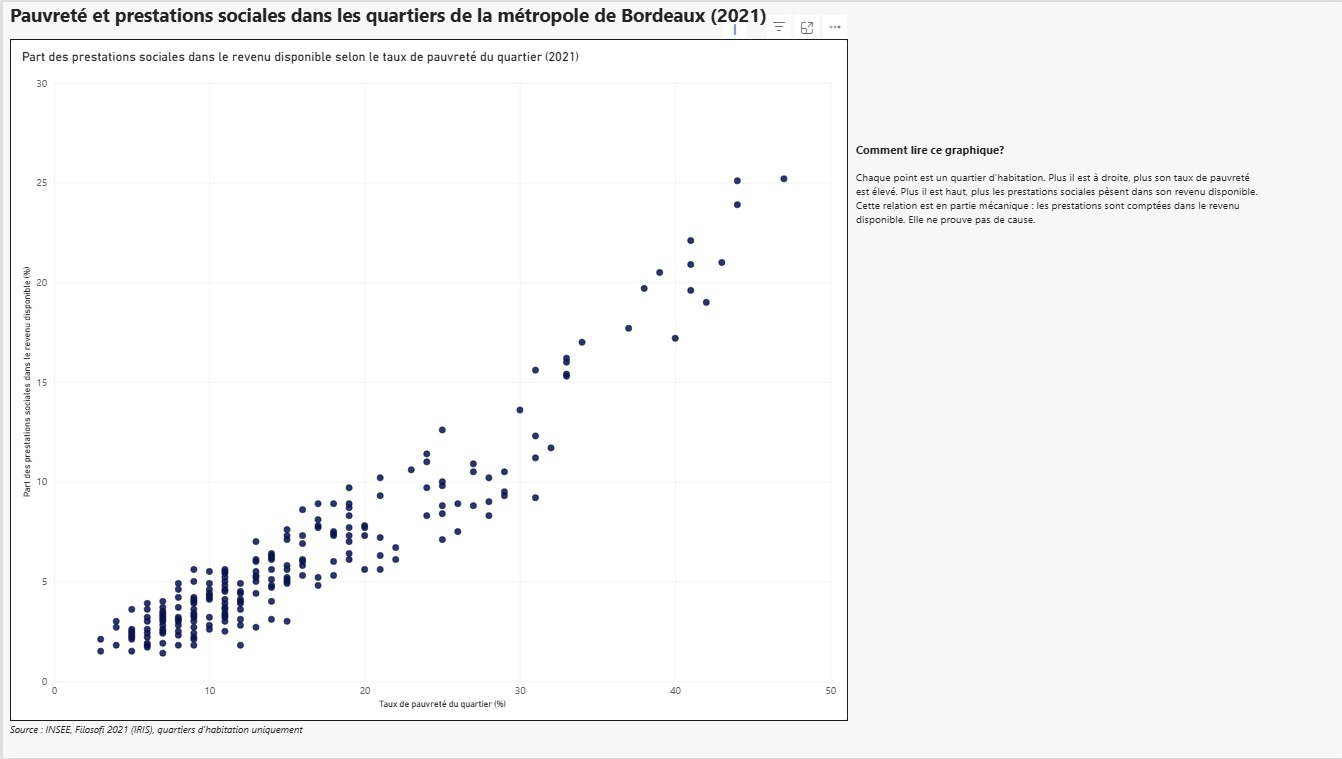

The dashboard page shown, as its layout file describes it:
{"tool":"powerbi","page":{"name":"D'où viennent les revenus","canvas":[1920,1080],"ordinal":3},"visuals":[{"type":"scatterChart","title":"Part des prestations sociales dans le revenu disponible selon le taux de pauvreté du quartier (2021)","fields":{"X":["IRIS_2021.Tx_pauvrete"],"Y":["IRIS_2021.Part_prestations_sociales"]},"box":[10,52.9,1197.1,974.3],"z":0},{"type":"textbox","box":[10,1028.3,1196.7,31.7],"z":1000},{"type":"textbox","box":[10,0,1197.1,52.9],"z":2000},{"type":"textbox","box":[1218,200,584,160],"z":3000}]}

Visuals, with their boxes on the page's 1920x1080 design canvas (x1, y1, x2, y2). These are canvas units, not pixel positions in the 1342x759 screenshot, which may show the page scaled, cropped or inside an application window:
"Part des prestations sociales dans le revenu disponible selon le taux de pauvreté du quartier (2021)" scatterChart: BBox(10, 53, 1207, 1027)
textbox: BBox(10, 1028, 1207, 1060)
textbox: BBox(10, 0, 1207, 53)
textbox: BBox(1218, 200, 1802, 360)
